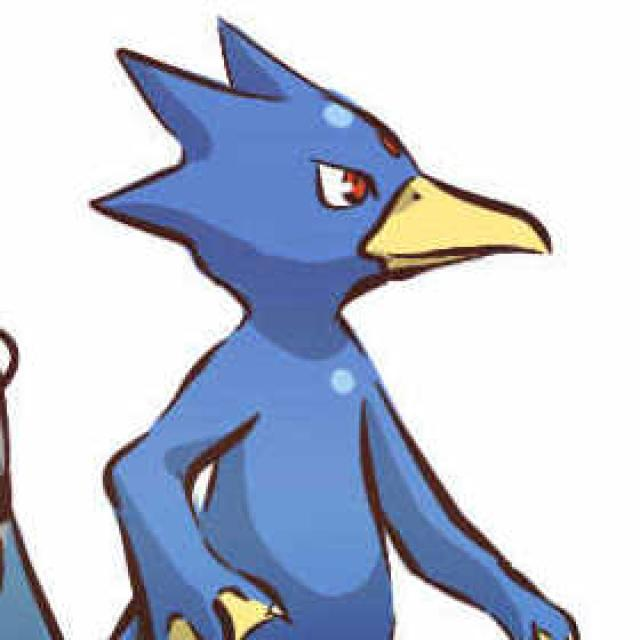Golduck: (89, 23, 555, 640)
